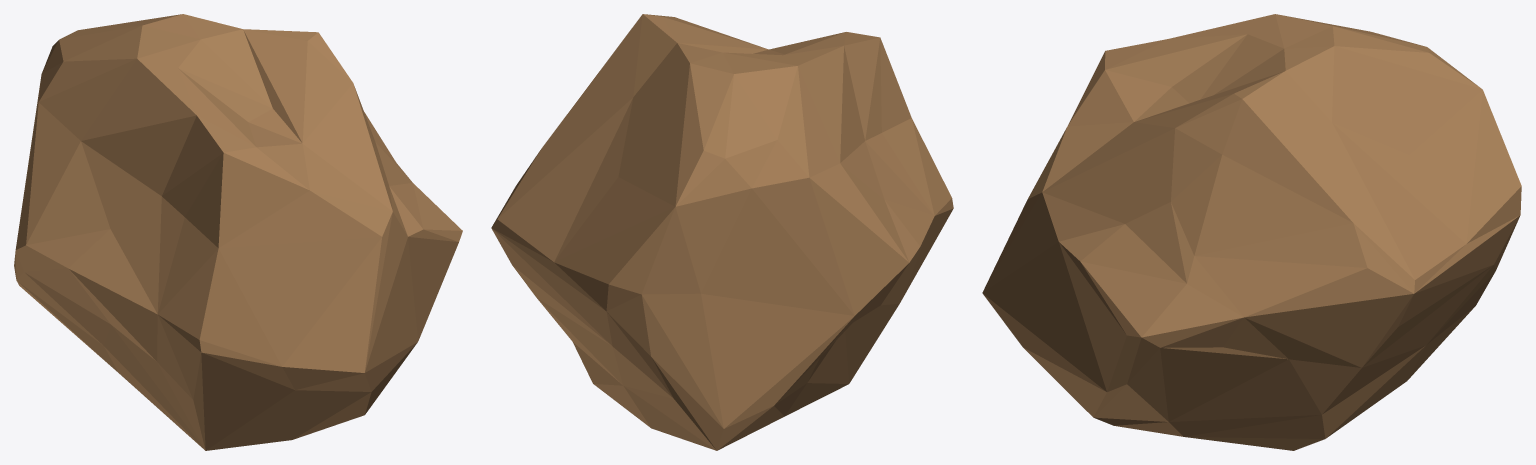
Rendered from Rock.fbx.
The picture shows the model from 3 angles, left to right: view 1: azimuth 30°, elevation 25°; view 2: azimuth 150°, elevation 25°; view 3: azimuth 270°, elevation 25°; orthographic projection. The views are drawn at different scales.
Visible parts, largest first — view 1: pPlatonic1; view 2: pPlatonic1; view 3: pPlatonic1.
Part boxes in pixels (left/top/right/bottom): pPlatonic1: left=14, top=14, right=462, bottom=450; pPlatonic1: left=491, top=14, right=953, bottom=450; pPlatonic1: left=982, top=14, right=1521, bottom=450.
Size of the model in its own units: 1.76 by 1.62 by 2.17.
